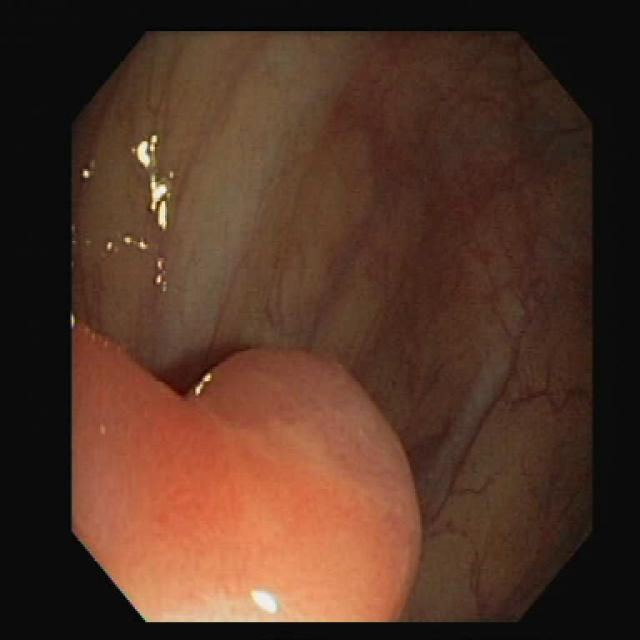tumor: (72, 324, 418, 616)
